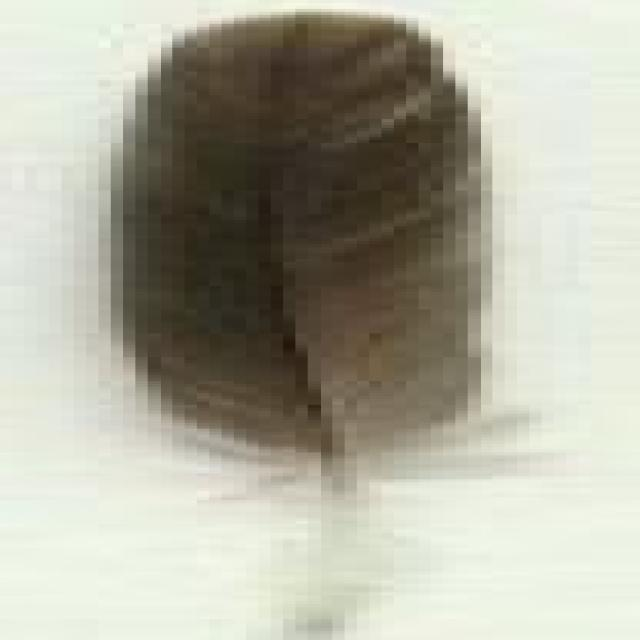feather: (97, 14, 557, 640)
